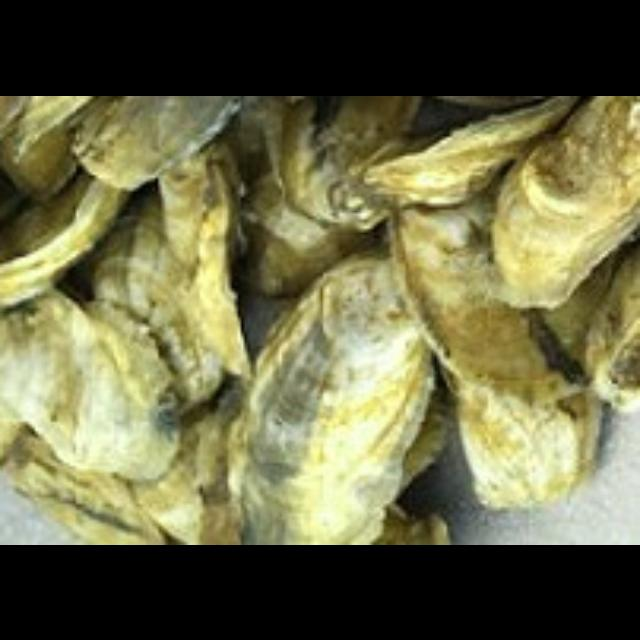Oyster-Closed: (224, 256, 438, 542), (391, 204, 582, 405), (0, 292, 179, 481), (491, 95, 637, 312), (460, 285, 595, 510), (89, 186, 222, 414), (363, 98, 569, 202), (232, 173, 392, 292), (281, 95, 419, 228), (131, 384, 245, 542), (72, 95, 252, 185), (184, 158, 253, 375), (586, 258, 637, 405), (13, 95, 103, 161), (0, 127, 74, 198), (378, 506, 451, 542), (0, 95, 29, 140)
Oyster-Open: (0, 416, 168, 542)
